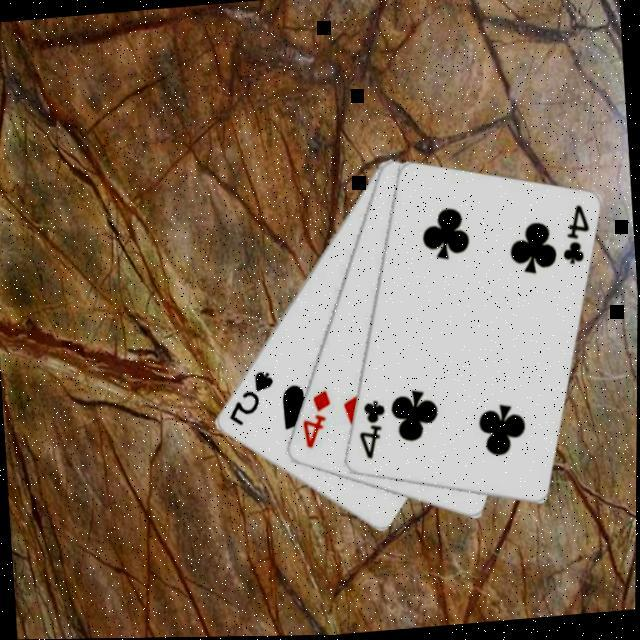4C: (556, 201, 595, 269), (355, 396, 391, 462)
4D: (297, 387, 337, 451)
5S: (224, 366, 280, 428)
